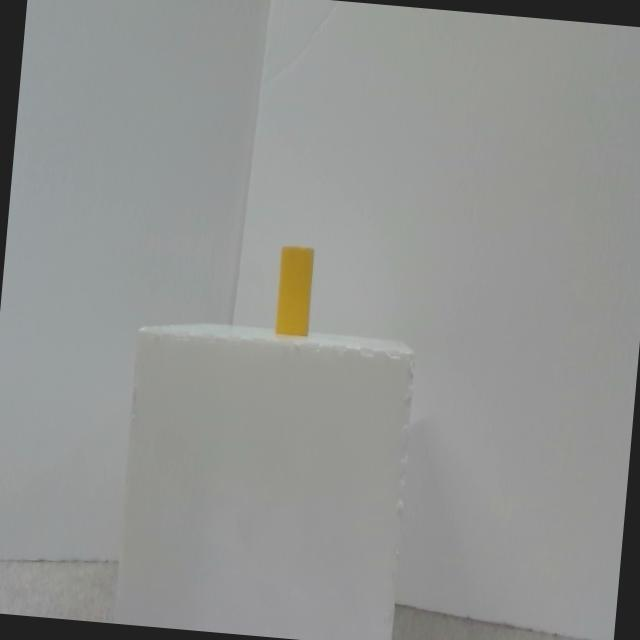yellow_cylinder: (274, 245, 315, 336)
